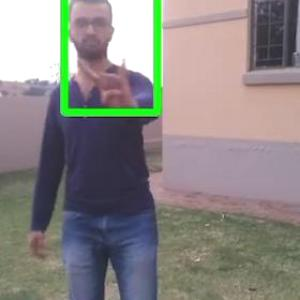takeoff-hand: (74, 43, 138, 119)
